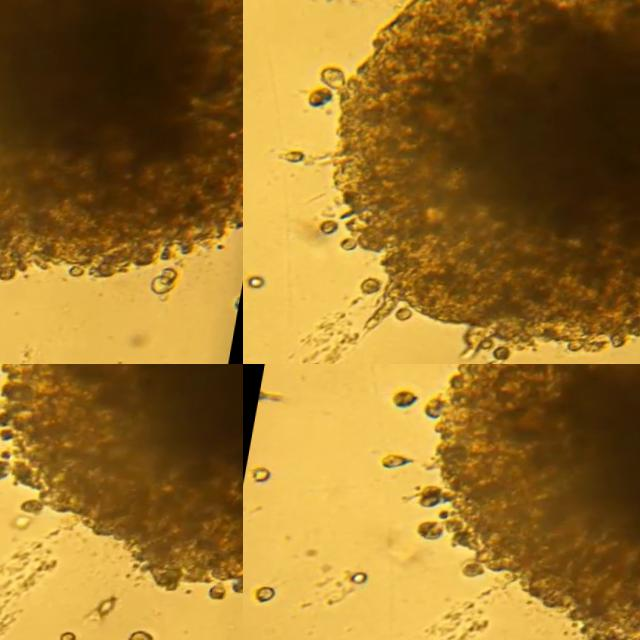cell: (419, 525, 447, 545), (381, 455, 415, 470), (308, 90, 332, 109), (393, 393, 419, 409), (156, 286, 180, 303), (103, 603, 122, 622), (465, 566, 489, 581), (285, 152, 310, 166), (364, 280, 383, 298), (260, 586, 278, 604), (398, 311, 418, 327), (254, 466, 275, 481), (166, 279, 183, 296), (322, 223, 342, 236), (353, 573, 371, 586), (252, 278, 268, 289), (344, 242, 358, 254), (65, 636, 85, 640), (238, 307, 243, 321)
tumor_mass: (420, 364, 640, 640), (0, 364, 243, 607)
